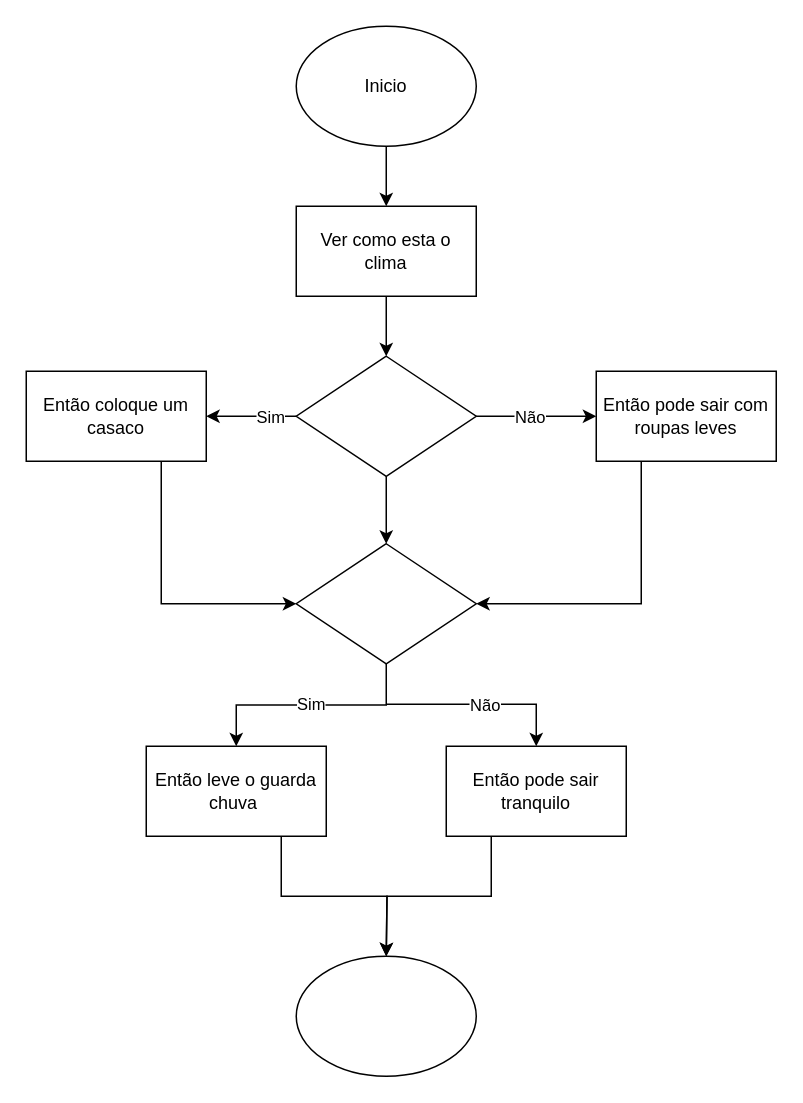
Some shapes in this 803 by 1103 pixel diagram are drawn without their labels. The centre of each missing label's shape, as x and y in pixels:
"Está chovendo?" goes at (385,603).
"Fim" goes at (385,1015).
"O clima é frio?" goes at (385,415).
